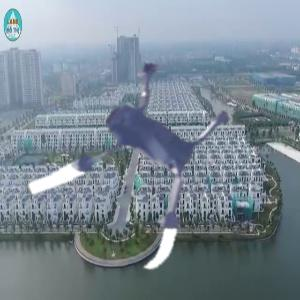drone: (14, 34, 256, 276)
